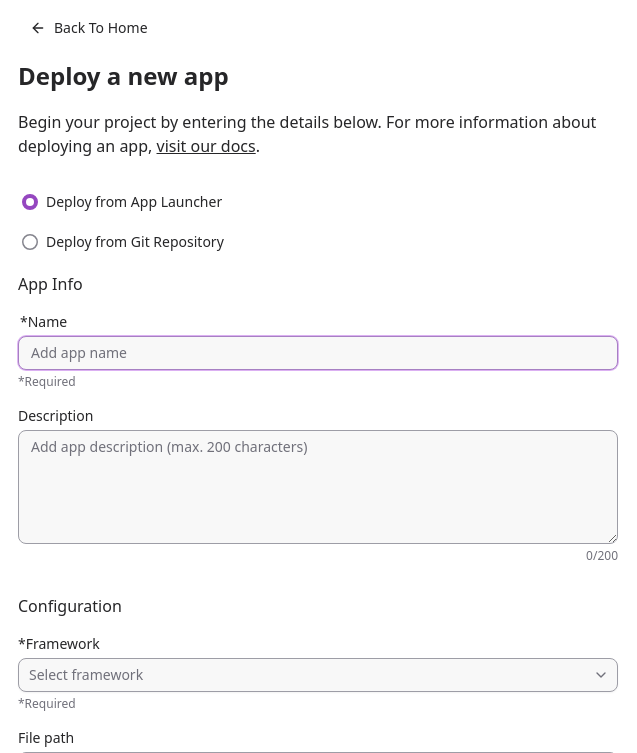
Test: CreateApp › should update heading based on deployment option selected
The image size is (637, 753).
Check: the heading "Deploy a new app" is shown, box x1=18 y1=59 x2=229 y2=92
Click the radio button labelled "Deploy from Git Repository": (123, 242) x1=22 y1=232 x2=224 y2=251
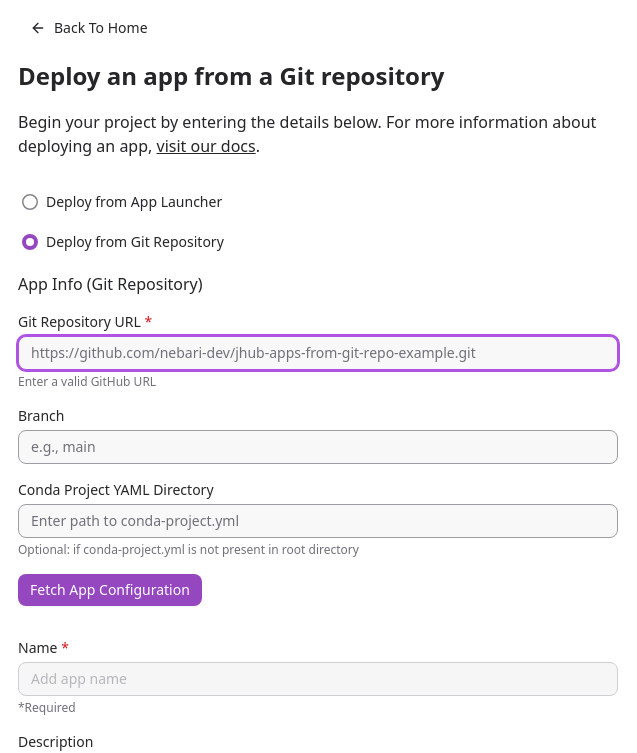
Check: the heading "Deploy an app from a Git repository" is shown, box x1=18 y1=59 x2=444 y2=92
